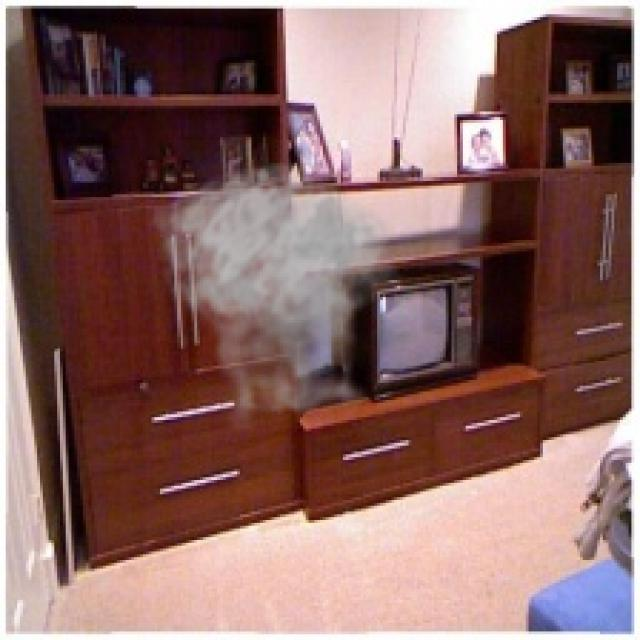smoke: (148, 160, 412, 434)
